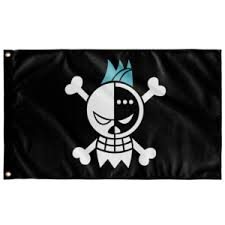Jolly Roger Flag: (2, 47, 223, 189)
